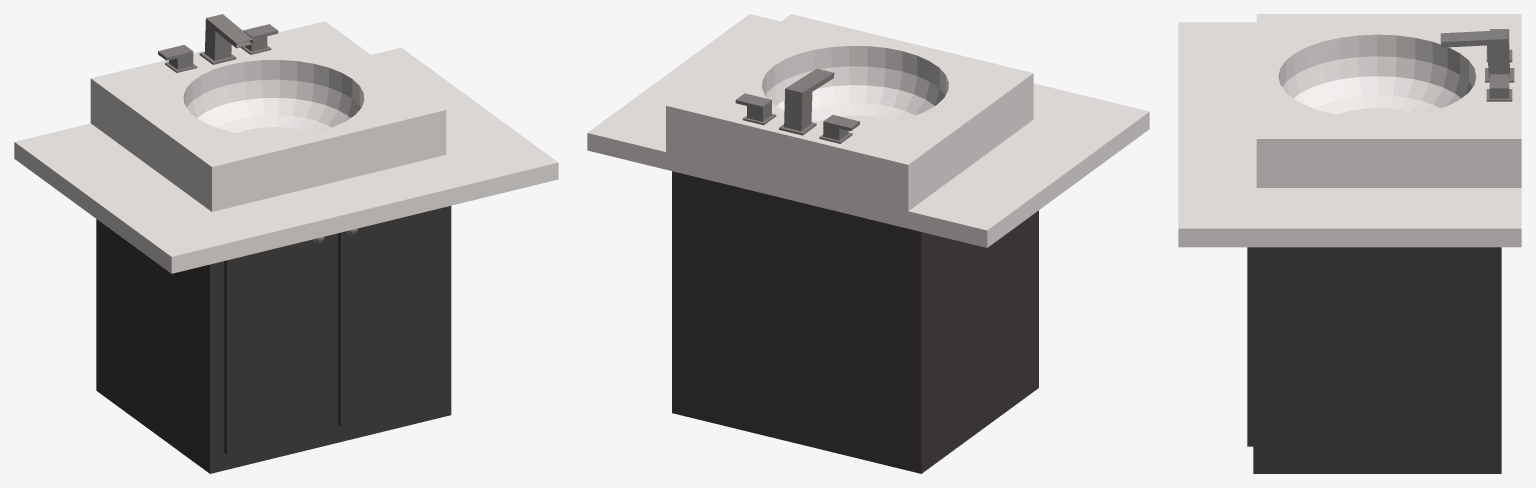
File: Shower Table_06.fbx
The picture shows the model from 3 angles, left to right: view 1: azimuth 30°, elevation 25°; view 2: azimuth 150°, elevation 25°; view 3: azimuth 270°, elevation 25°; orthographic projection. The views are drawn at different scales.
Parts seen in each view (by area): view 1: Shower Table_06; view 2: Shower Table_06; view 3: Shower Table_06.
Part boxes in pixels (box(x1,y1,x2,y2)): Shower Table_06: box(14, 14, 558, 473); Shower Table_06: box(587, 14, 1149, 473); Shower Table_06: box(1178, 14, 1521, 473).
Bounding box in the file's own units: 105 × 88.95 × 73.81.
